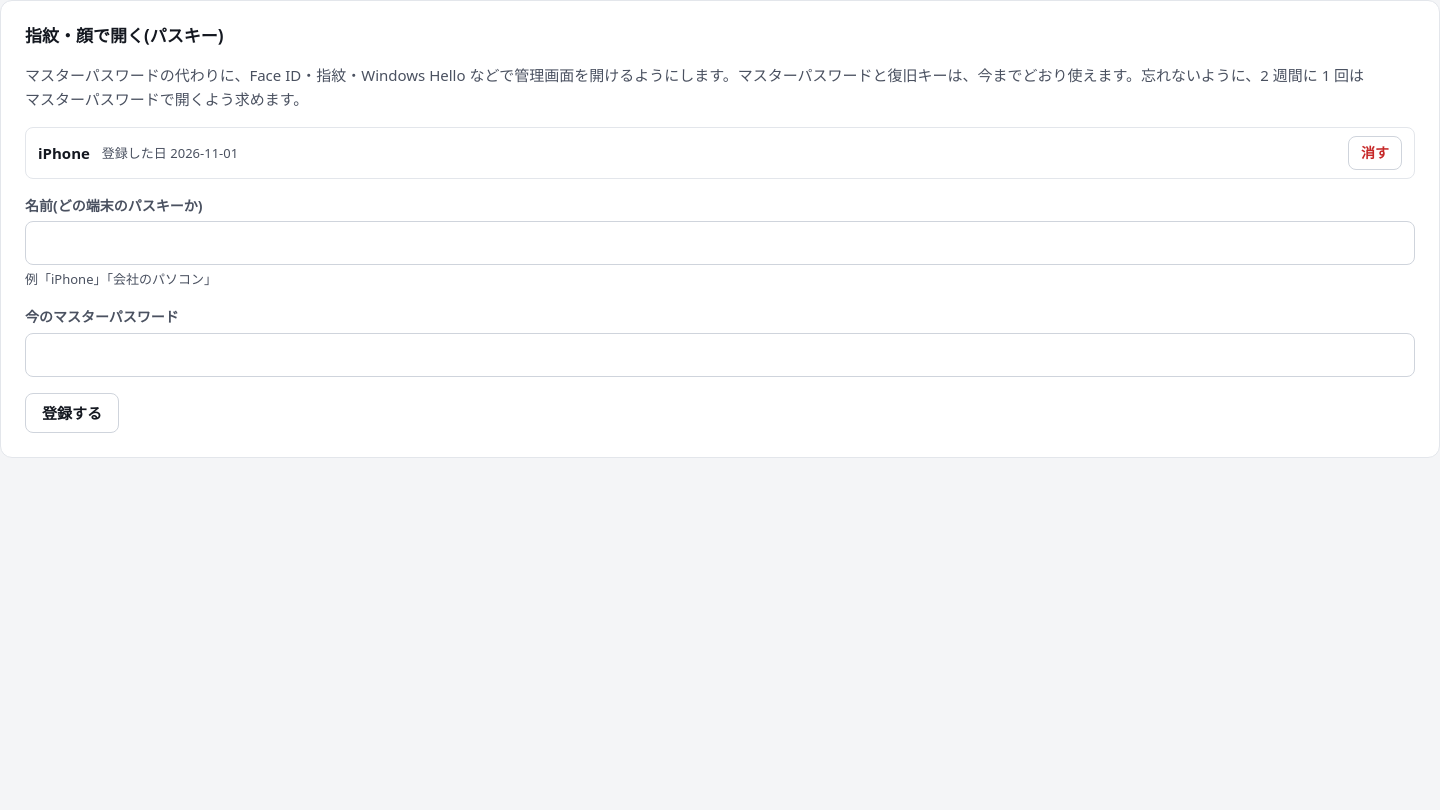
Test: パスキー › 一覧を読み、消したら結果へフォーカスを移し、端末の側でも消すよう知らせる
Click the button with aria-label "「iPhone」の登録を消す" at x=1375, y=153, box [1348,136,1402,170]
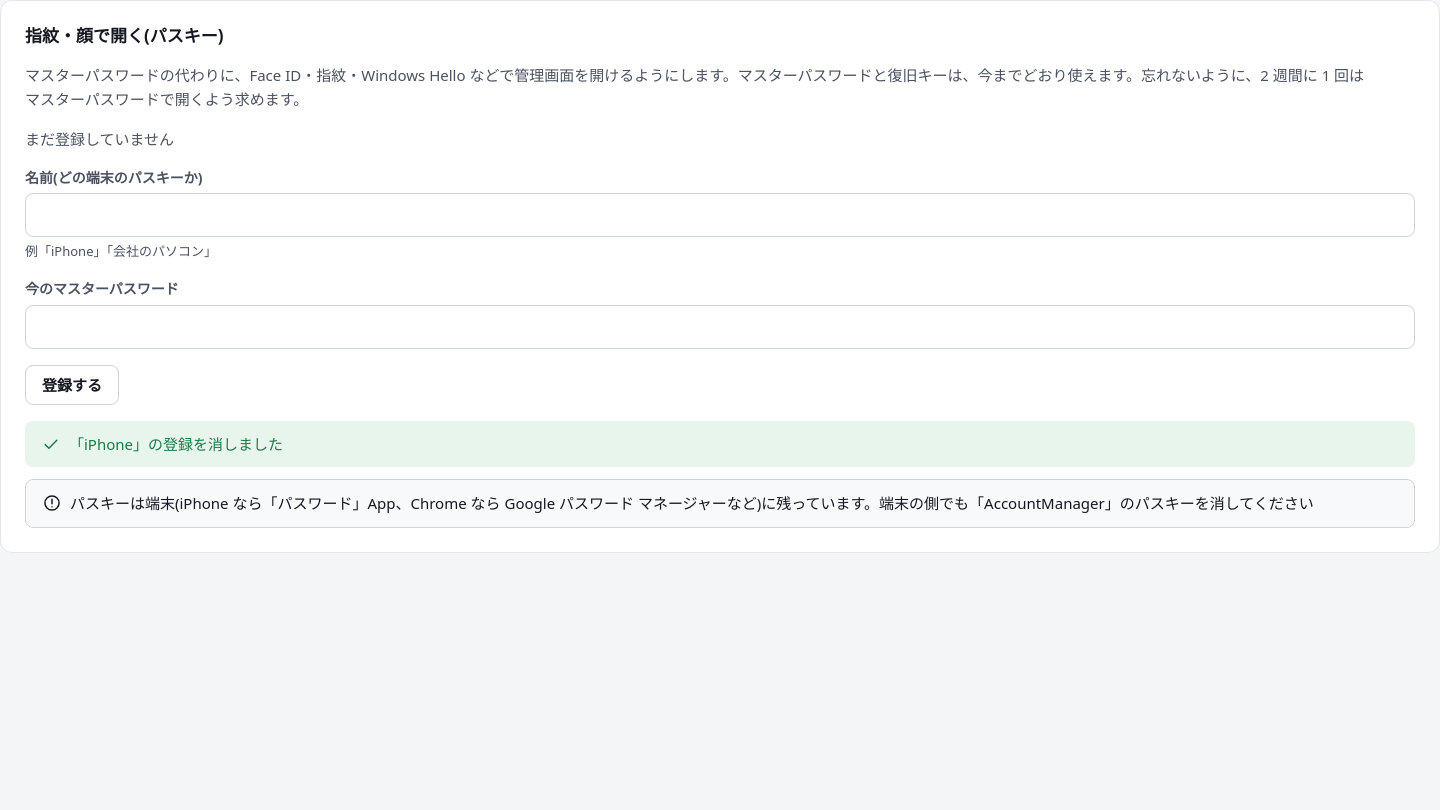
Expected: the text "まだ登録していません" is shown, [25,129,174,149]
Expected: the message reads "「iPhone」の登録を消しました", [69,434,283,454]
Expected: the text "端末の側でも" is shown, [70,493,1314,513]
